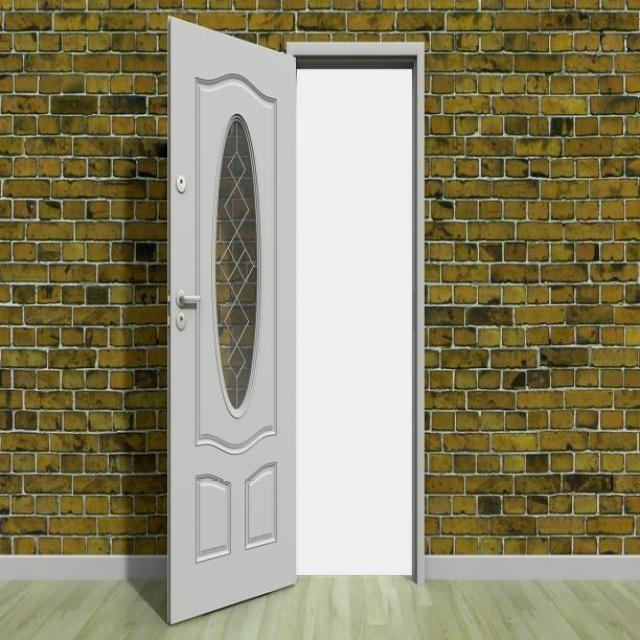door: (165, 14, 298, 624)
